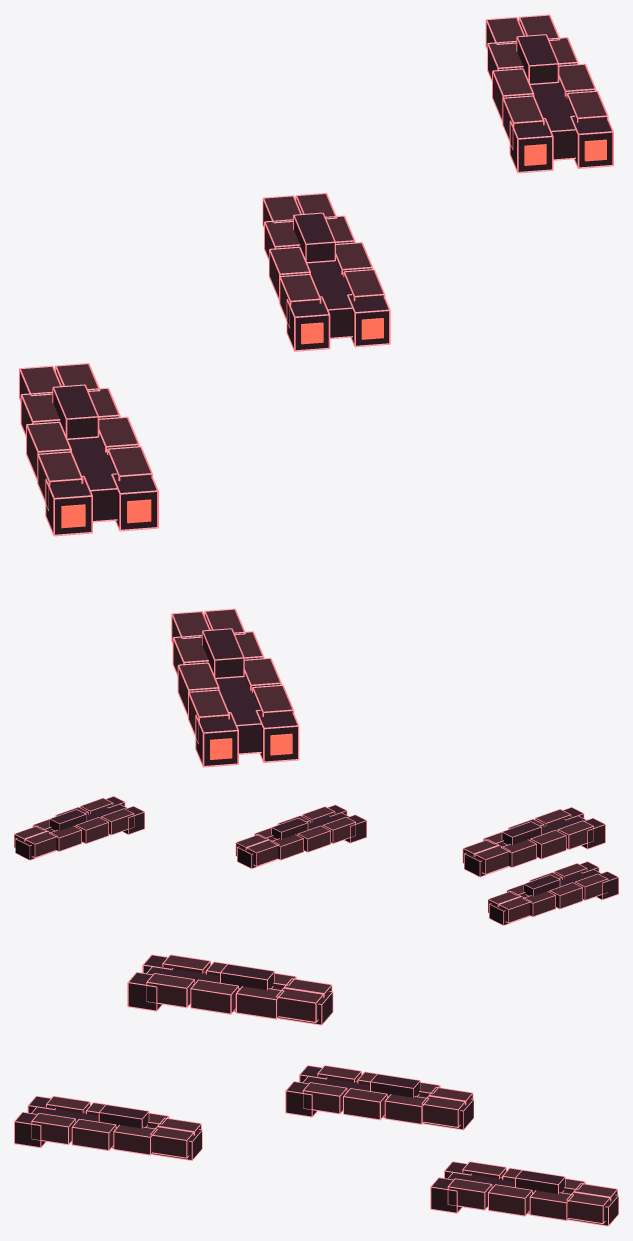
File: red_fleet.glb
The picture shows the model from 3 angles, top to bottom: view 1: azimuth 30°, elevation 25°; view 2: azimuth 150°, elevation 25°; view 3: azimuth 270°, elevation 25°; orthographic projection. The views are drawn at different scales.
Parts seen in each view (by area): view 1: RedPatrol_01_ROOT | red physical edge accents, RedPatrol_03_ROOT | red physical edge accents, RedPatrol_04_ROOT | red physical edge accents, RedPatrol_02_ROOT | red physical edge accents, RedPatrol_01_ROOT | central keel, RedPatrol_02_ROOT | central keel, RedPatrol_03_ROOT | central keel, RedPatrol_04_ROOT | central keel, RedPatrol_01_ROOT | bridge, RedPatrol_01_ROOT | rear drive pod, RedPatrol_04_ROOT | bridge, RedPatrol_02_ROOT | bridge (+17 smaller); view 2: RedPatrol_01_ROOT | red physical edge accents, RedPatrol_04_ROOT | red physical edge accents, RedPatrol_02_ROOT | red physical edge accents, RedPatrol_03_ROOT | red physical edge accents, RedPatrol_01_ROOT | segmented armor.001, RedPatrol_01_ROOT | central keel, RedPatrol_01_ROOT | segmented armor.003, RedPatrol_01_ROOT | segmented armor.002, RedPatrol_01_ROOT | bridge, RedPatrol_01_ROOT | segmented armor, RedPatrol_02_ROOT | segmented armor.001, RedPatrol_04_ROOT | segmented armor.001 (+28 smaller); view 3: RedPatrol_01_ROOT | red physical edge accents, RedPatrol_03_ROOT | red physical edge accents, RedPatrol_02_ROOT | red physical edge accents, RedPatrol_04_ROOT | red physical edge accents, RedPatrol_01_ROOT | segmented armor.005, RedPatrol_01_ROOT | segmented armor.007, RedPatrol_01_ROOT | segmented armor.006, RedPatrol_01_ROOT | segmented armor.004, RedPatrol_04_ROOT | segmented armor.005, RedPatrol_03_ROOT | segmented armor.005, RedPatrol_02_ROOT | segmented armor.005, RedPatrol_01_ROOT | bridge (+25 smaller).
Part boxes in pixels (x1,y1,x2,y2): RedPatrol_01_ROOT | red physical edge accents: (19, 363, 158, 536); RedPatrol_03_ROOT | red physical edge accents: (485, 14, 613, 173); RedPatrol_04_ROOT | red physical edge accents: (171, 608, 299, 767); RedPatrol_02_ROOT | red physical edge accents: (262, 193, 390, 351); RedPatrol_01_ROOT | central keel: (68, 437, 117, 520); RedPatrol_02_ROOT | central keel: (307, 260, 352, 337); RedPatrol_03_ROOT | central keel: (530, 82, 575, 159); RedPatrol_04_ROOT | central keel: (216, 676, 261, 753); RedPatrol_01_ROOT | bridge: (53, 385, 97, 438); RedPatrol_01_ROOT | rear drive pod: (46, 477, 91, 534); RedPatrol_04_ROOT | bridge: (202, 629, 243, 677); RedPatrol_02_ROOT | bridge: (294, 213, 334, 261); RedPatrol_01_ROOT | red physical edge accents: (462, 807, 605, 877); RedPatrol_04_ROOT | red physical edge accents: (488, 861, 618, 925); RedPatrol_02_ROOT | red physical edge accents: (235, 804, 366, 869); RedPatrol_03_ROOT | red physical edge accents: (14, 796, 144, 860); RedPatrol_01_ROOT | segmented armor.001: (531, 830, 565, 858); RedPatrol_01_ROOT | central keel: (464, 816, 585, 876); RedPatrol_01_ROOT | segmented armor.003: (475, 846, 508, 873); RedPatrol_01_ROOT | segmented armor.002: (502, 840, 536, 866); RedPatrol_01_ROOT | bridge: (502, 822, 541, 844); RedPatrol_01_ROOT | segmented armor: (558, 821, 593, 848); RedPatrol_02_ROOT | segmented armor.001: (298, 826, 330, 851); RedPatrol_04_ROOT | segmented armor.001: (550, 883, 582, 908); RedPatrol_01_ROOT | red physical edge accents: (127, 954, 333, 1025); RedPatrol_03_ROOT | red physical edge accents: (430, 1161, 618, 1226); RedPatrol_02_ROOT | red physical edge accents: (285, 1065, 473, 1130); RedPatrol_04_ROOT | red physical edge accents: (14, 1096, 202, 1160); RedPatrol_01_ROOT | segmented armor.005: (191, 980, 238, 1013); RedPatrol_01_ROOT | segmented armor.007: (278, 988, 323, 1021); RedPatrol_01_ROOT | segmented armor.006: (237, 986, 282, 1018); RedPatrol_01_ROOT | segmented armor.004: (147, 974, 194, 1006); RedPatrol_04_ROOT | segmented armor.005: (72, 1119, 115, 1149); RedPatrol_03_ROOT | segmented armor.005: (489, 1185, 531, 1215); RedPatrol_02_ROOT | segmented armor.005: (344, 1089, 386, 1119); RedPatrol_01_ROOT | bridge: (221, 964, 274, 989).
Size of the model in its own units: 4.59 by 1.37 by 4.36.
